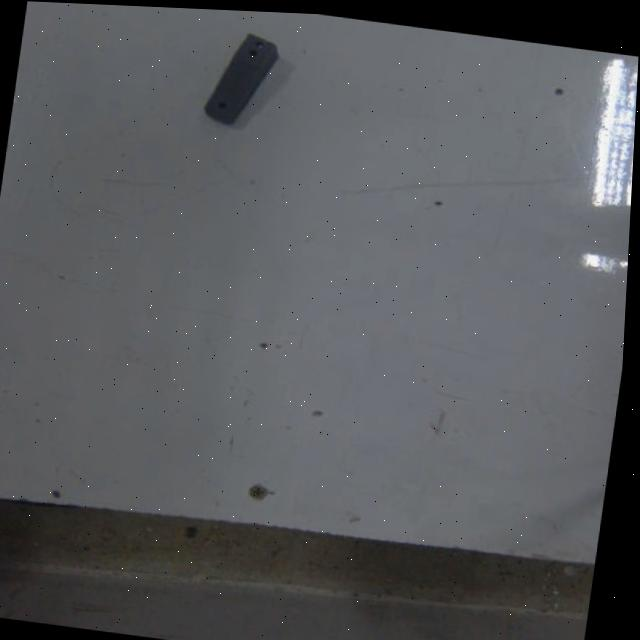grey: (197, 26, 282, 130)
head: (213, 100, 230, 111)
